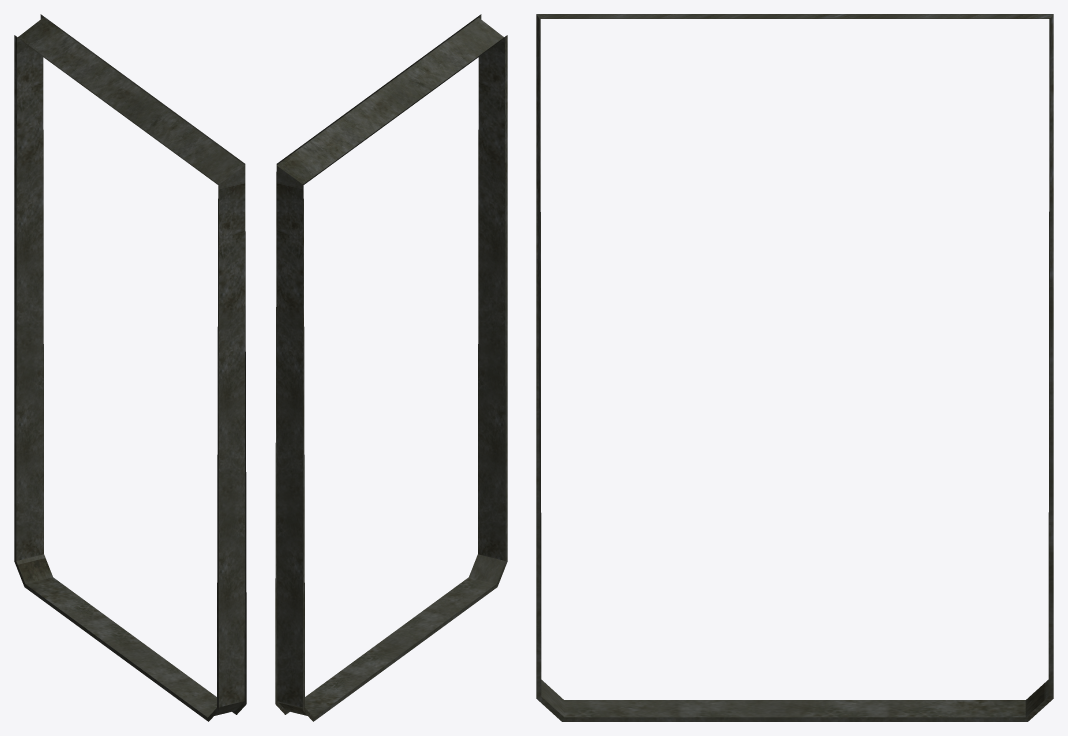
File: HallwayConnector.FBX
The picture shows the model from 3 angles, left to right: view 1: azimuth 30°, elevation 25°; view 2: azimuth 150°, elevation 25°; view 3: azimuth 270°, elevation 25°; orthographic projection. The views are drawn at different scales.
Parts seen in each view (by area): view 1: HallwayConnector001; view 2: HallwayConnector001; view 3: HallwayConnector001.
Part boxes in pixels (x1,y1,x2,y2): HallwayConnector001: (14,14,246,721); HallwayConnector001: (275,14,507,721); HallwayConnector001: (536,14,1053,721).
Size of the model in its own units: 0.24 by 4.59 by 3.05.
